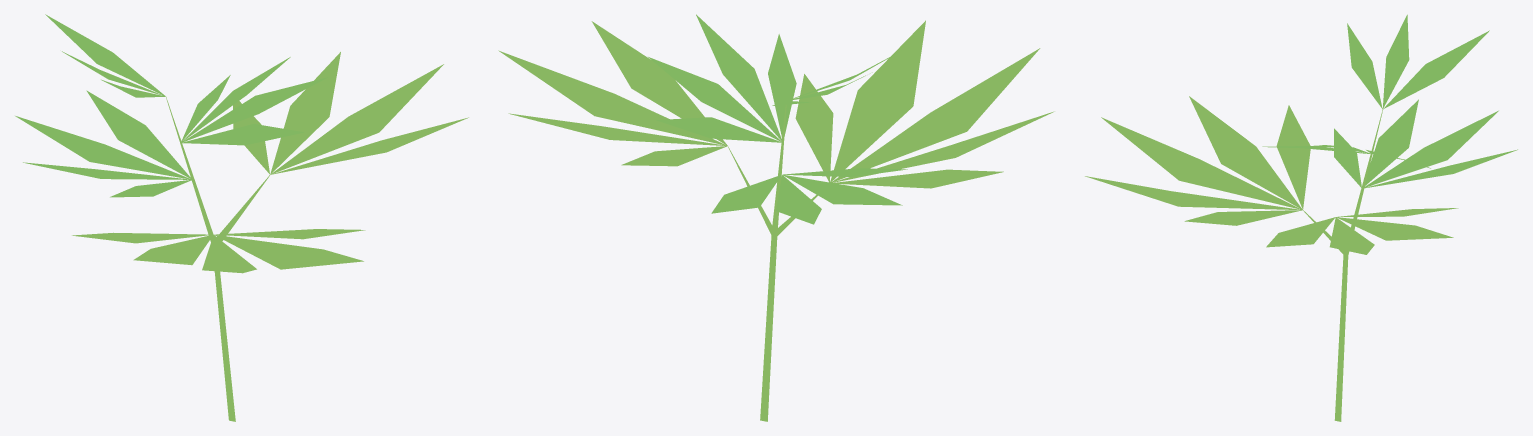
The model's file is Plant_i_TwoS_08.fbx.
3 renders of one model, left to right at view 1: azimuth 30°, elevation 25°; view 2: azimuth 150°, elevation 25°; view 3: azimuth 270°, elevation 25°, orthographic. The views are drawn at different scales.
Visible parts, largest first — view 1: Plant_i_TwoS_08; view 2: Plant_i_TwoS_08; view 3: Plant_i_TwoS_08.
Part boxes in pixels (box(x1,y1,x2,y2)): Plant_i_TwoS_08: box(15, 14, 468, 421); Plant_i_TwoS_08: box(498, 14, 1054, 421); Plant_i_TwoS_08: box(1085, 14, 1517, 421).
Bounding box in the file's own units: 0.8273 × 0.715 × 0.8154.
